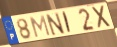2: (78, 7, 97, 32)
8: (17, 18, 33, 41)
I: (62, 11, 72, 35)
M: (29, 14, 52, 39)
N: (45, 12, 67, 37)
X: (91, 4, 113, 30)
